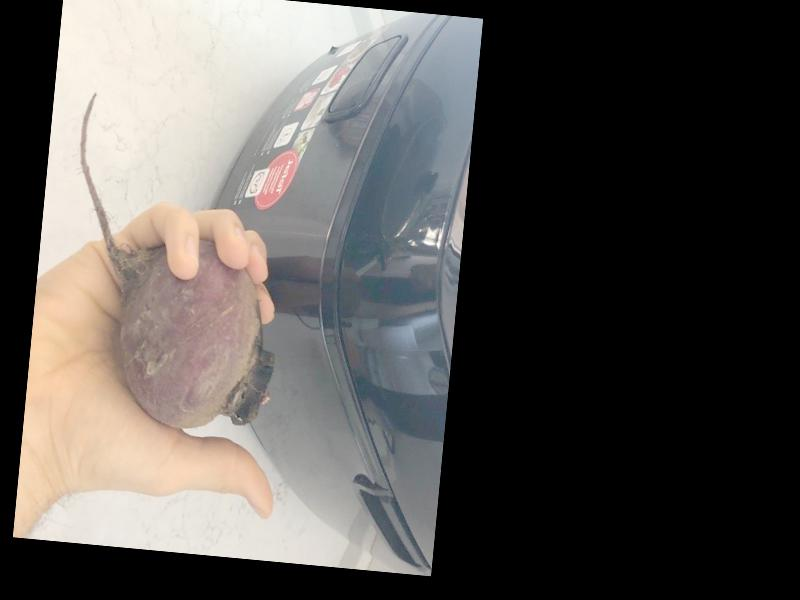Beet: (54, 90, 297, 435)
